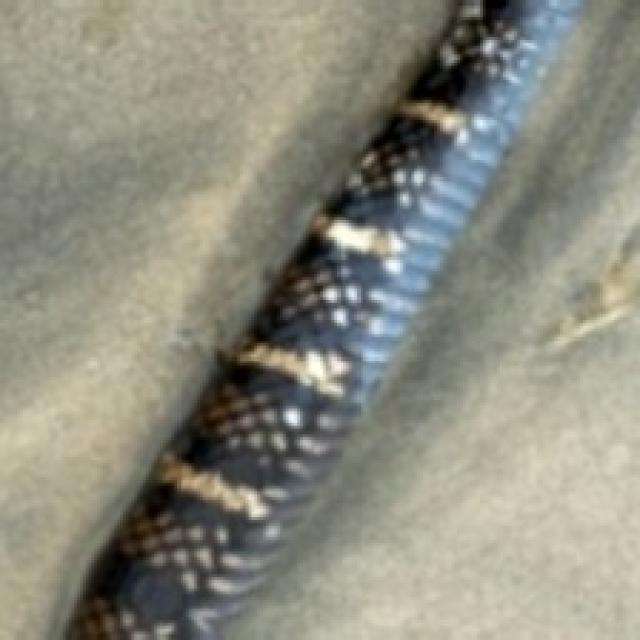king cobra: (69, 0, 577, 637)
